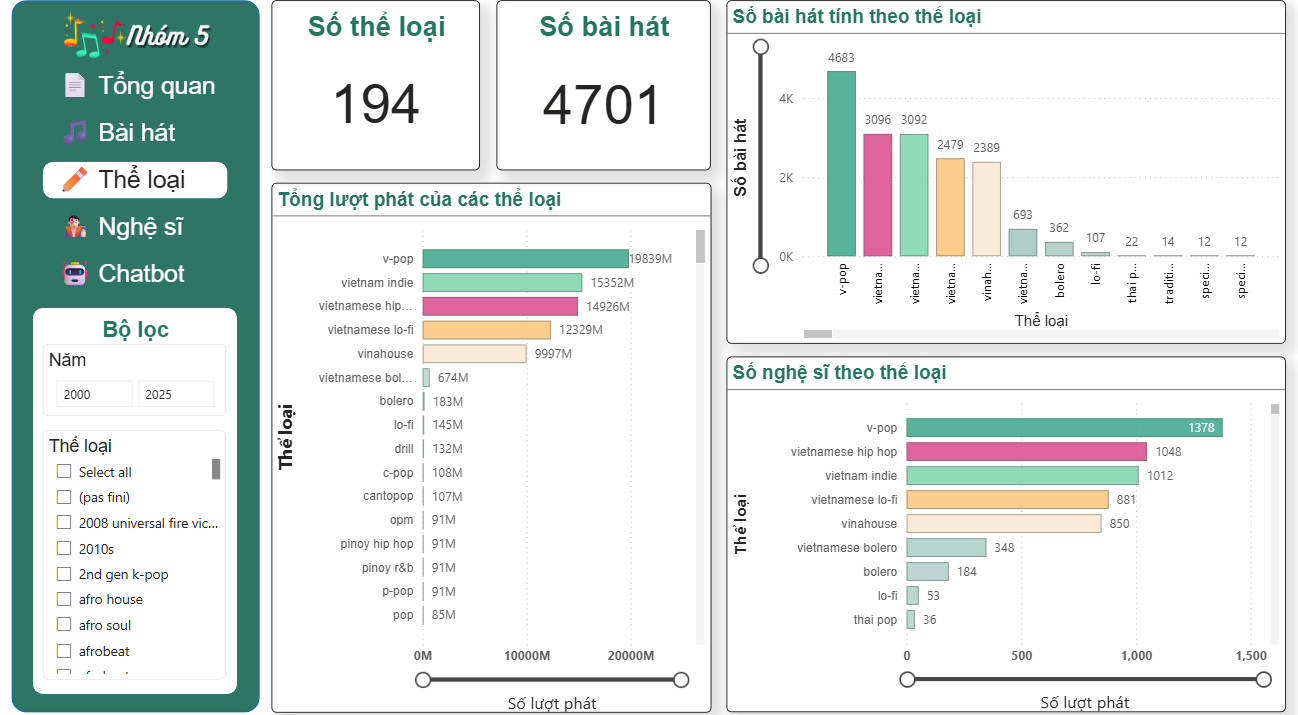

The dashboard page shown, as its layout file describes it:
{"tool":"powerbi","page":{"name":"✏️ Thể loại","canvas":[1280,720],"ordinal":2},"visuals":[{"type":"shape","title":"Menu Background","box":[17.1,11.4,242.9,697.1],"z":0},{"type":"shape","title":"Bộ lọc","box":[38,312,200,378],"z":1000},{"type":"slicer","title":"Thể loại","fields":{"Values":["genres.Value"]},"box":[47.1,432.1,179.3,244.3],"z":2000},{"type":"barChart","title":"Tổng lượt phát của các thể loại","fields":{"Y":["Sum(vietnamese_only_songs_clean.stream_counts)"],"Category":["genres.Value"]},"box":[271.4,189.3,430,518.6],"z":3000},{"type":"shape","box":[76,314,125.3,38.7],"z":4000},{"type":"slicer","title":"Năm","fields":{"Values":["Date.Year"]},"box":[47.1,347.1,179.3,70.7],"z":5000},{"type":"pageNavigator","title":"Menu Buttons","box":[48,77.3,181.3,224],"z":6000},{"type":"image","box":[53.6,15,167.9,62.1],"z":7000},{"type":"card","title":"Số thể loại","fields":{"Values":["Count(genres.Value)"]},"box":[271.3,11.3,204,166],"z":8000},{"type":"card","title":"Số bài hát","fields":{"Values":["Count(vietnamese_only_songs_clean.id)"]},"box":[492,11.3,209.3,166],"z":9000},{"type":"columnChart","title":"Số bài hát tính theo thể loại","fields":{"Category":["genres.Value"],"Y":["genres.Số bài hát"]},"box":[716.9,11.2,547.2,335.7],"z":10000},{"type":"barChart","title":"Số nghệ sĩ theo thể loại","fields":{"Category":["genres.Value"],"Y":["Count(artists.Value)"]},"box":[717.1,360,547.1,347.9],"z":11000}]}

Visuals, with their boxes in screenshot pixels (x1, y1, x2, y2), scaled from the page's 1280x720 canvas onto the 1298x715 screenshot:
"Menu Background" shape: <box>17,11,264,704</box>
"Bộ lọc" shape: <box>39,310,241,685</box>
"Thể loại" slicer: <box>48,429,230,672</box>
"Tổng lượt phát của các thể loại" barChart: <box>275,188,711,703</box>
shape: <box>77,312,204,350</box>
"Năm" slicer: <box>48,345,230,415</box>
"Menu Buttons" pageNavigator: <box>49,77,233,299</box>
image: <box>54,15,225,77</box>
"Số thể loại" card: <box>275,11,482,176</box>
"Số bài hát" card: <box>499,11,711,176</box>
"Số bài hát tính theo thể loại" columnChart: <box>727,11,1282,344</box>
"Số nghệ sĩ theo thể loại" barChart: <box>727,358,1282,703</box>
